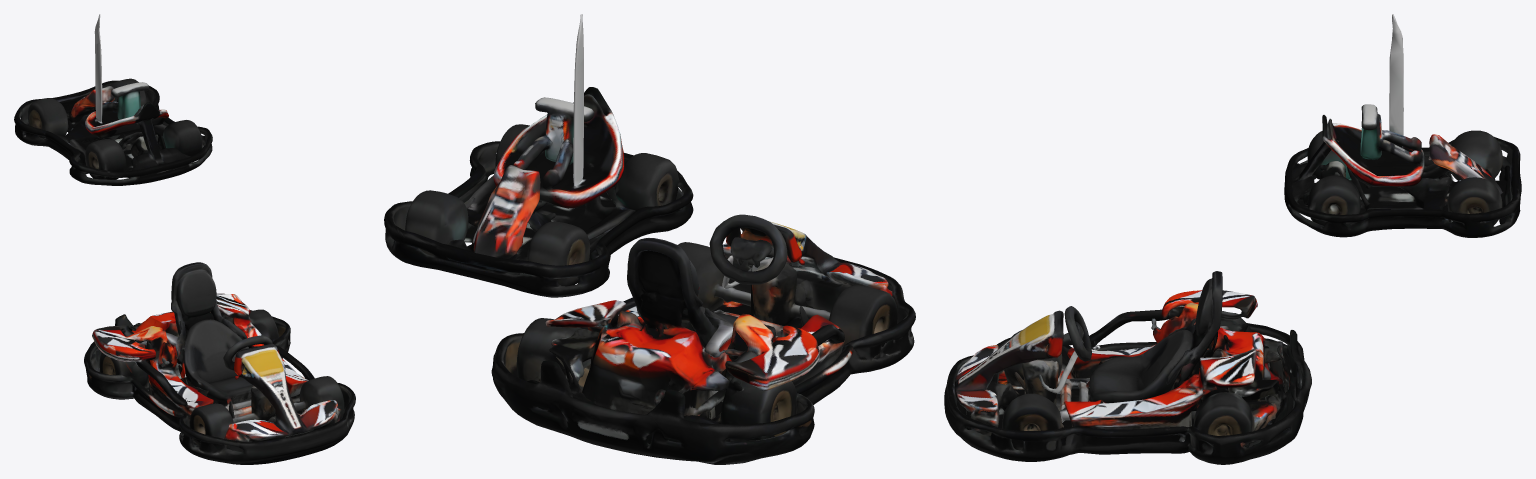
File: building-go-kart.glb
3 views of the same model, side by side, from view 1: azimuth 30°, elevation 25°; view 2: azimuth 150°, elevation 25°; view 3: azimuth 270°, elevation 25° (orthographic). The views are drawn at different scales.
Parts seen in each view (by area): view 1: tripo_node_7ae05874-945c-4769-a868-151d96e7188b; view 2: tripo_node_7ae05874-945c-4769-a868-151d96e7188b; view 3: tripo_node_7ae05874-945c-4769-a868-151d96e7188b.
Part boxes in pixels (x1,y1,x2,y2): tripo_node_7ae05874-945c-4769-a868-151d96e7188b: (14, 14, 355, 464); tripo_node_7ae05874-945c-4769-a868-151d96e7188b: (384, 14, 915, 464); tripo_node_7ae05874-945c-4769-a868-151d96e7188b: (944, 14, 1521, 464).
Size of the model in its own units: 1.96 by 3 by 4.01.
1 material, 1 textured.
